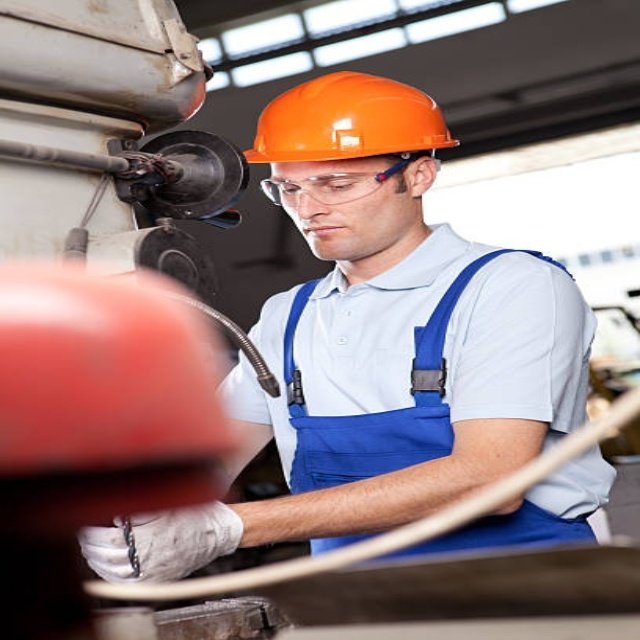Gafas: (259, 161, 405, 207)
Guantes: (77, 501, 243, 584)
Sin_mascara: (295, 220, 372, 253)
